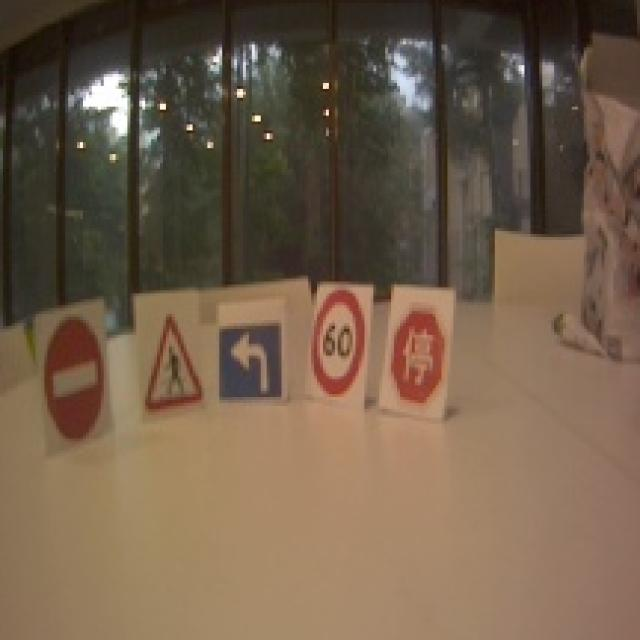DoNotEnterSign: (44, 315, 108, 441)
